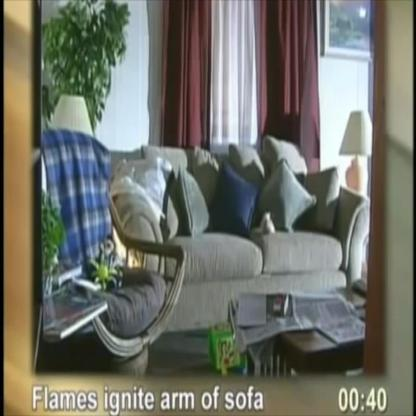fire: (112, 224, 140, 271)
